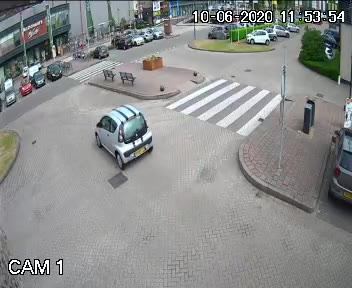car: (87, 104, 157, 171)
